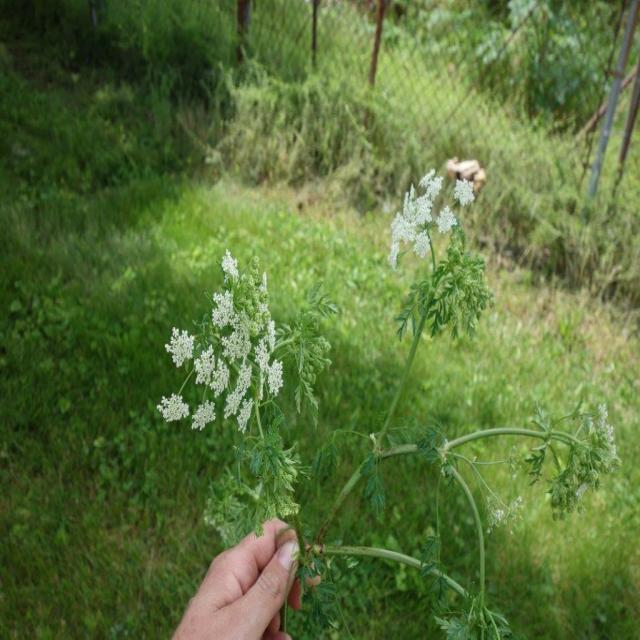Poisonous-Hemlock: (149, 264, 309, 480), (375, 144, 482, 404), (466, 382, 624, 531)
